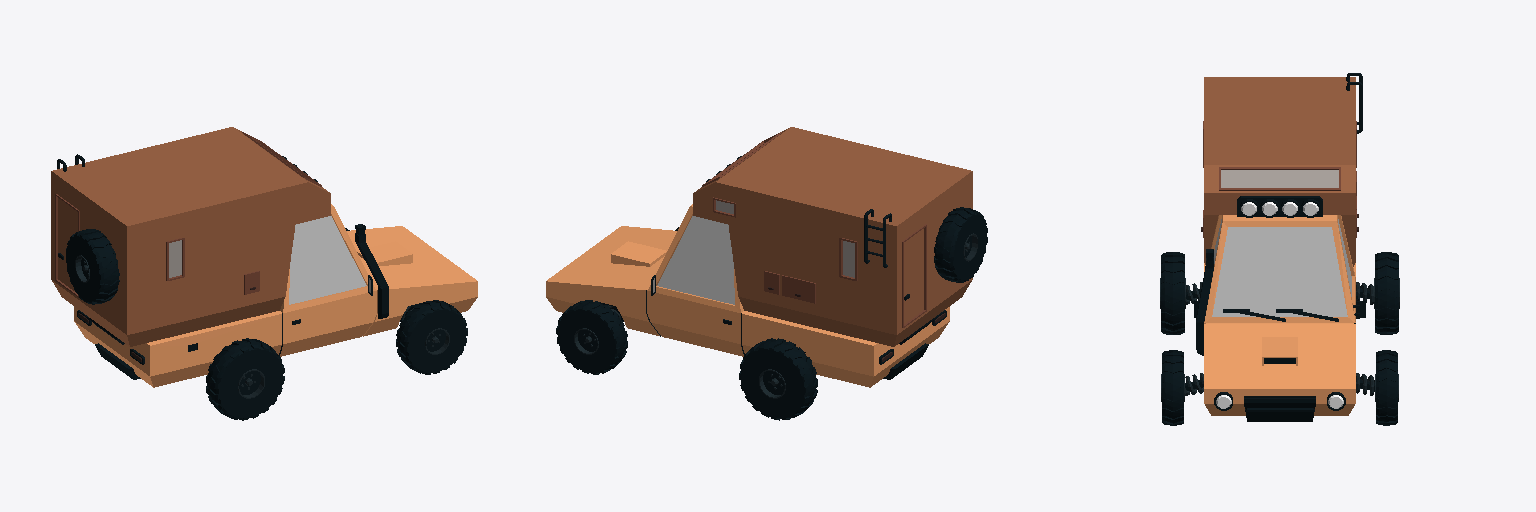
The model's file is car.obj.
3 renders of one model, left to right at view 1: azimuth 30°, elevation 25°; view 2: azimuth 150°, elevation 25°; view 3: azimuth 270°, elevation 25°, orthographic.
Visible parts, largest first — view 1: Frame_Cube.001, Rear_wheel.001_Cylinder.032, Front_wheel.001_Cylinder.031; view 2: Frame_Cube.001, Rear_wheel_Cylinder.030, Front_wheel_Cylinder.029; view 3: Frame_Cube.001, Rear_wheel.001_Cylinder.032, Rear_wheel_Cylinder.030, Front_wheel_Cylinder.029, Front_wheel.001_Cylinder.031.
Boxes of the visible parts, box(x1,y1,x2,y2) form: Frame_Cube.001: box(51, 127, 477, 387); Rear_wheel.001_Cylinder.032: box(206, 338, 284, 420); Front_wheel.001_Cylinder.031: box(396, 300, 467, 374); Frame_Cube.001: box(546, 127, 987, 387); Rear_wheel_Cylinder.030: box(739, 338, 817, 420); Front_wheel_Cylinder.029: box(556, 300, 627, 374); Frame_Cube.001: box(1194, 73, 1365, 421); Rear_wheel.001_Cylinder.032: box(1160, 252, 1185, 334); Rear_wheel_Cylinder.030: box(1374, 252, 1399, 334); Front_wheel_Cylinder.029: box(1375, 350, 1398, 425); Front_wheel.001_Cylinder.031: box(1161, 350, 1184, 425).
Size of the model in its own units: 5.75 by 3.1 by 3.16.